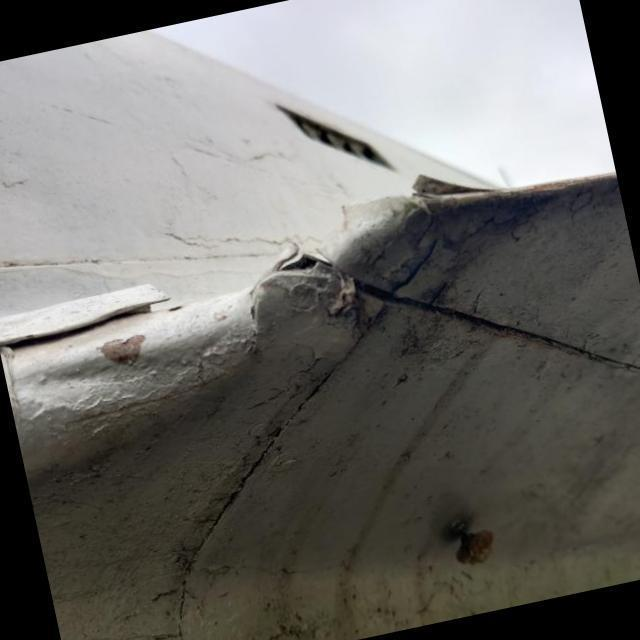Rupture: (376, 138, 516, 241), (258, 216, 350, 300)
